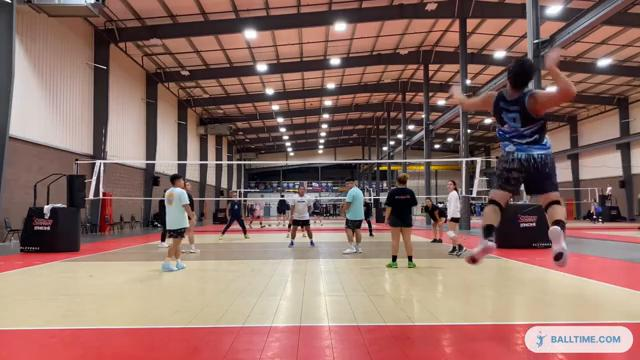attacco: (439, 41, 588, 272)
